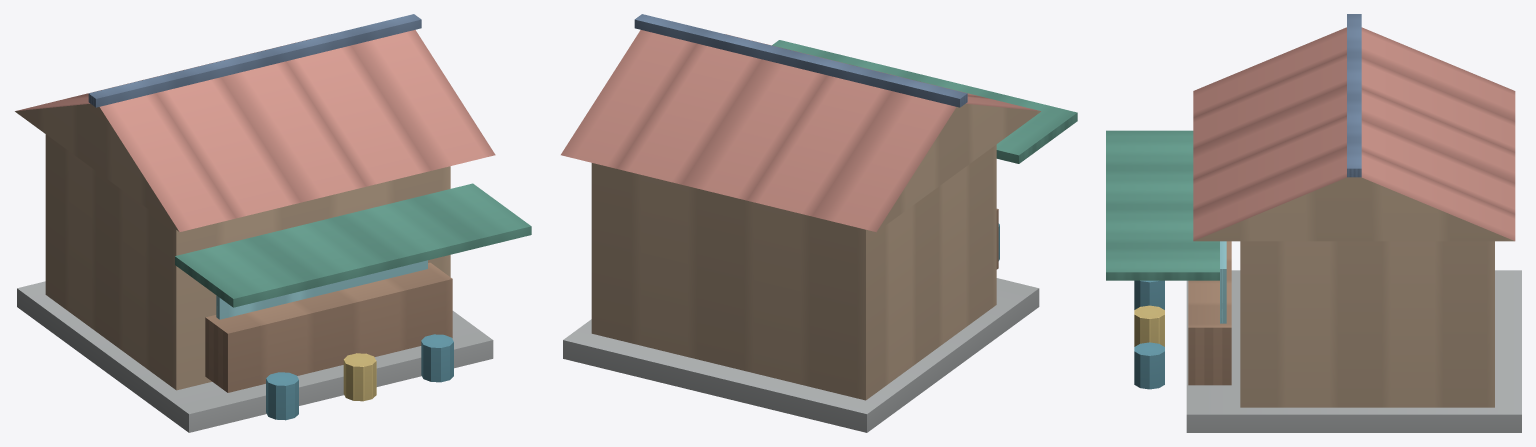
Rendered from coffee_stall.glb.
3 renders of one model, left to right at view 1: azimuth 30°, elevation 25°; view 2: azimuth 150°, elevation 25°; view 3: azimuth 270°, elevation 25°, orthographic. The views are drawn at different scales.
Visible parts, largest first — view 1: coffee_stall; view 2: coffee_stall; view 3: coffee_stall.
Part boxes in pixels (bbox=[...]): coffee_stall: bbox=[15, 14, 531, 432]; coffee_stall: bbox=[561, 14, 1077, 432]; coffee_stall: bbox=[1106, 14, 1521, 432].
Bounding box in the file's own units: 5.46 × 4.43 × 6.2.
Materials: 1 (1 with a texture image).
